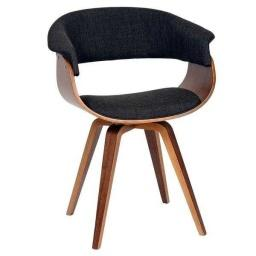Chair: (51, 6, 216, 248)
